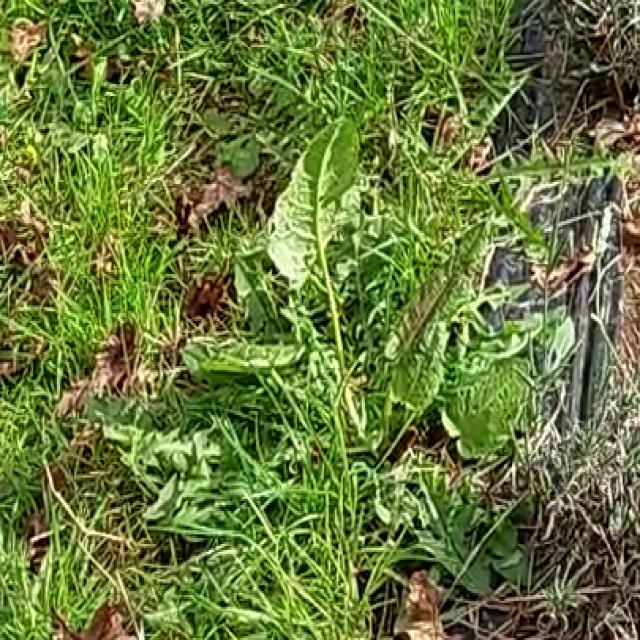organic waste: (187, 104, 568, 485)
